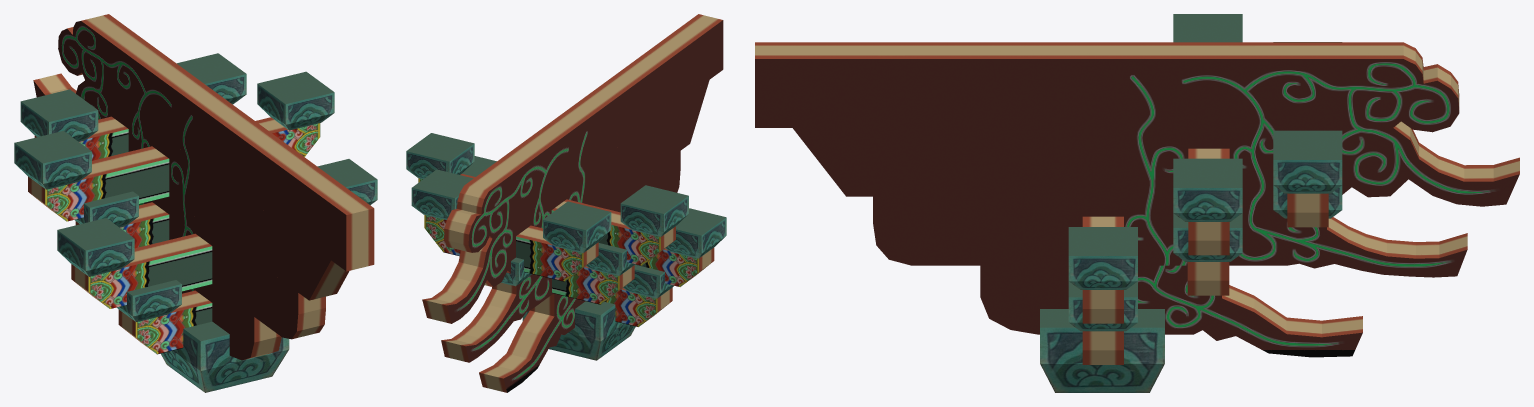
File: SM_Geumsan_Mi_Gongpo_B.fbx
3 renders of one model, left to right at view 1: azimuth 30°, elevation 25°; view 2: azimuth 150°, elevation 25°; view 3: azimuth 270°, elevation 25°, orthographic. The views are drawn at different scales.
Parts seen in each view (by area): view 1: SM_Geumsan_Mi_Gongpo_B; view 2: SM_Geumsan_Mi_Gongpo_B; view 3: SM_Geumsan_Mi_Gongpo_B.
Boxes of the visible parts, left/top/right/bottom form: SM_Geumsan_Mi_Gongpo_B: left=14, top=14, right=377, bottom=392; SM_Geumsan_Mi_Gongpo_B: left=406, top=14, right=726, bottom=392; SM_Geumsan_Mi_Gongpo_B: left=755, top=14, right=1519, bottom=392.
Bounding box in the file's own units: 149 × 128 × 276.
